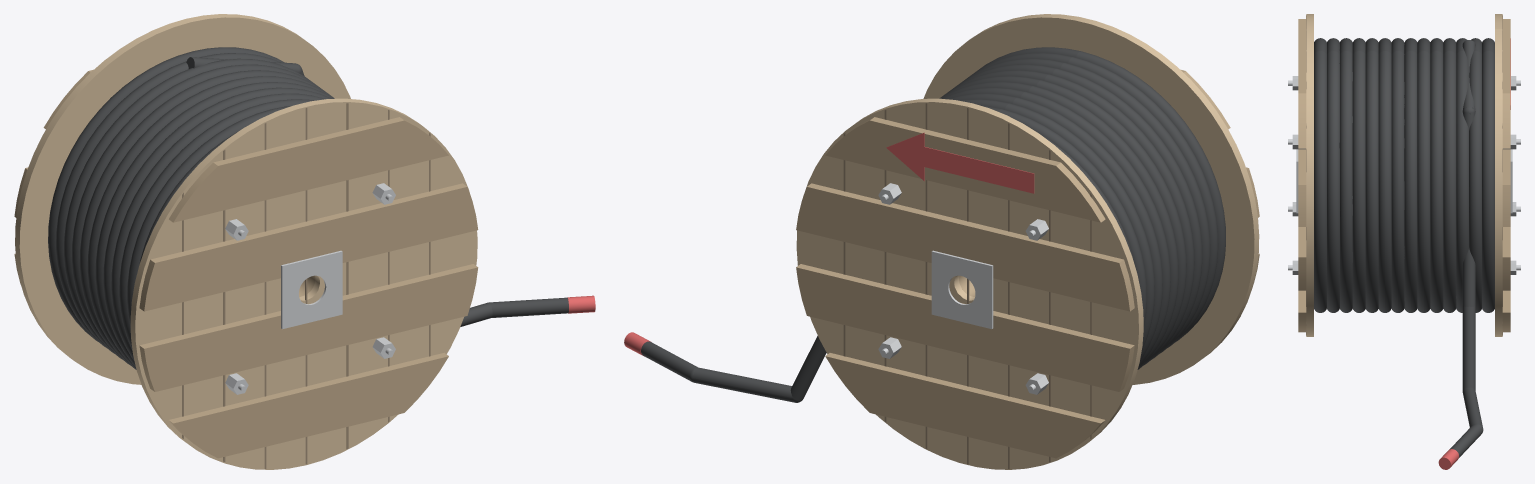
The model's file is Cable_Reel_Wooden.glb.
The picture shows the model from 3 angles, left to right: view 1: azimuth 30°, elevation 25°; view 2: azimuth 150°, elevation 25°; view 3: azimuth 270°, elevation 25°; orthographic projection. The views are drawn at different scales.
Visible parts, largest first — view 1: flanges, battens, cable, hardware, plank_seams; view 2: flanges, battens, cable, hardware, roll_arrow, plank_seams; view 3: cable, battens, flanges, hardware, roll_arrow, plank_seams.
Part boxes in pixels (x1,y1,x2,y2): flanges: (15,14,477,469); battens: (14,69,478,458); cable: (48,47,568,369); hardware: (225,183,395,394); plank_seams: (182,103,430,468); flanges: (796,14,1259,469); battens: (796,69,1259,458); cable: (641,47,1225,402); hardware: (878,183,1048,394); roll_arrow: (624,132,1034,356); plank_seams: (843,103,1091,468); cable: (1314,38,1494,457); battens: (1298,19,1510,332); flanges: (1306,14,1502,336); hardware: (1288,76,1520,274); roll_arrow: (1438,38,1510,469); plank_seams: (1306,15,1502,335).
Bounding box in the file's own units: 39.89 × 25 × 18.
